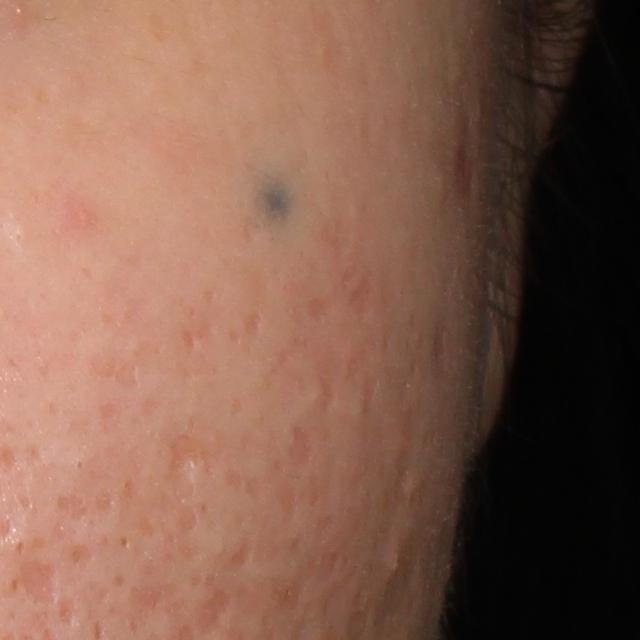atrophic_scar: (17, 552, 65, 612), (195, 589, 233, 637), (226, 535, 265, 570)
nevus: (250, 168, 292, 224)
